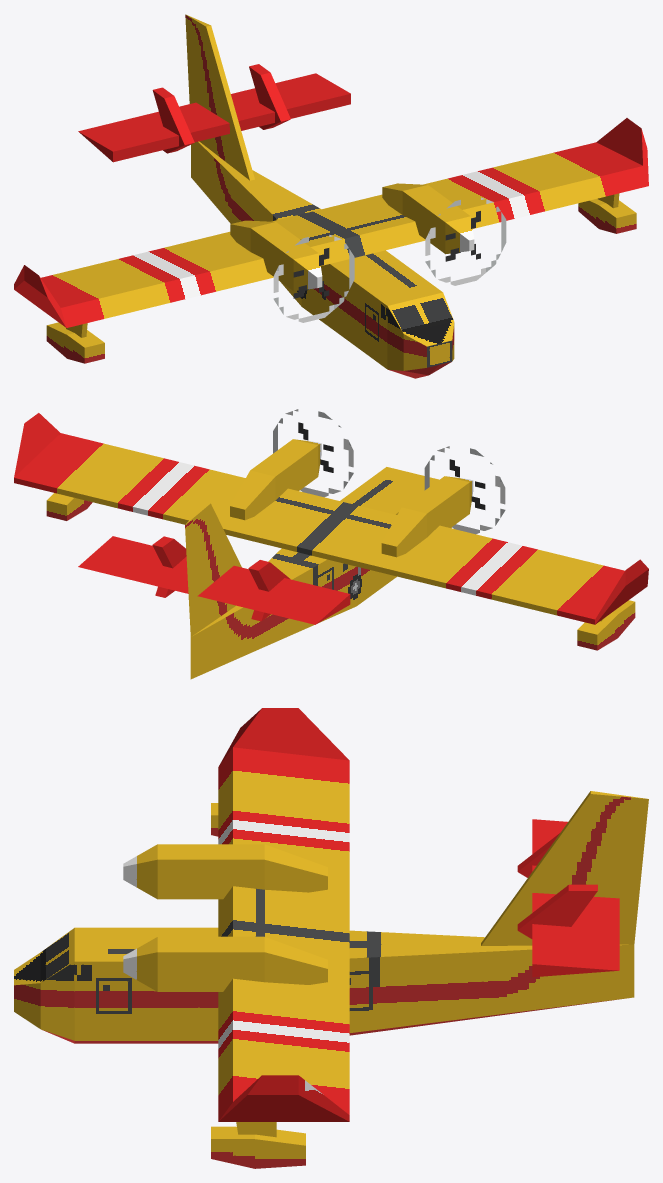
File: canadair-c415.gltf
3 renders of one model, top to bottom at view 1: azimuth 30°, elevation 25°; view 2: azimuth 150°, elevation 25°; view 3: azimuth 270°, elevation 25°, orthographic. The views are drawn at different scales.
Parts seen in each view (by area): view 1: cube (×10), blades (×2); view 2: cube (×10), blades (×2); view 3: cube (×8).
Boxes of the visible parts, x1=… form: cube (×10): x1=14, y1=14, x2=648, y2=378; blades (×2): x1=273, y1=197, x2=506, y2=322; cube (×10): x1=14, y1=413, x2=648, y2=679; blades (×2): x1=273, y1=409, x2=505, y2=534; cube (×8): x1=14, y1=708, x2=648, y2=1168.
Bounding box in the file's own units: 7.44 × 2.38 × 5.44.
9 materials, 9 textured.
